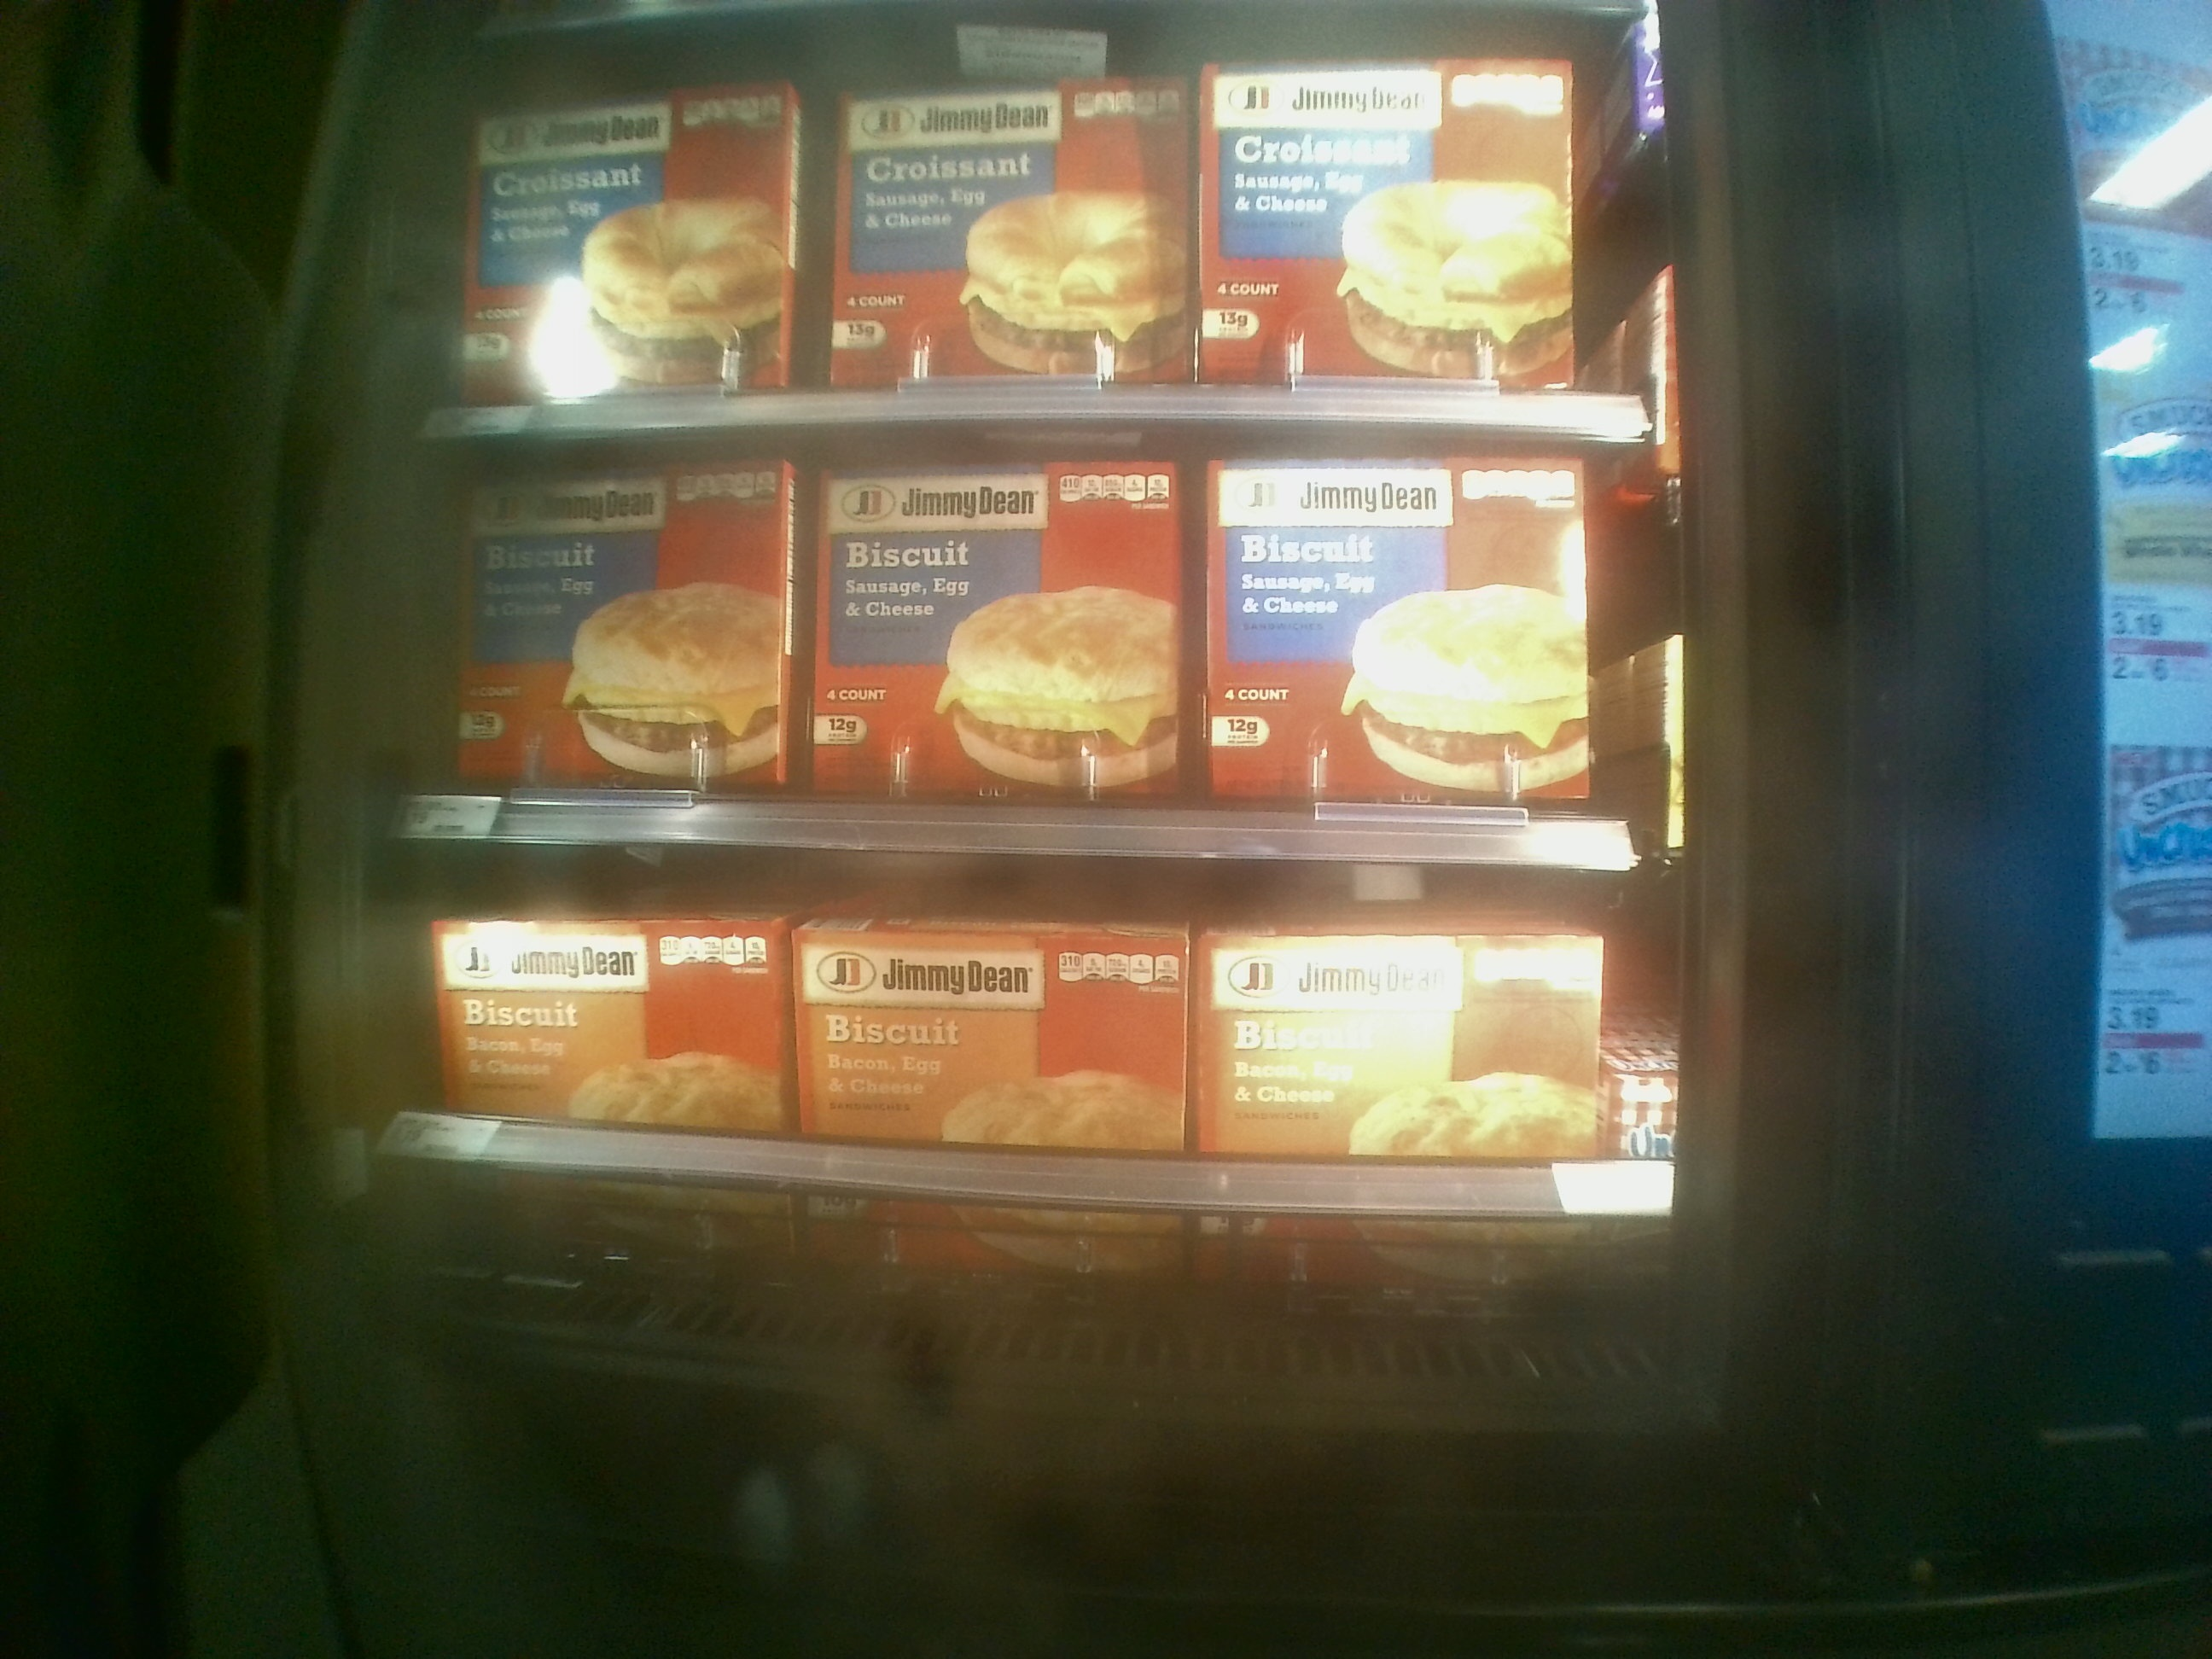frozen-food-shelf: (392, 413, 1651, 847), (381, 829, 1679, 1206)
